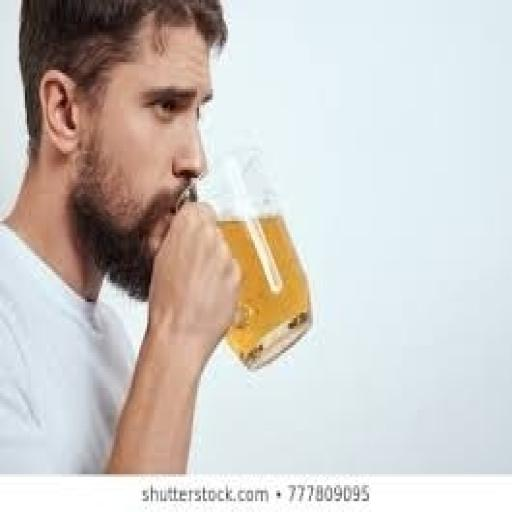drinking: (176, 143, 313, 372)
